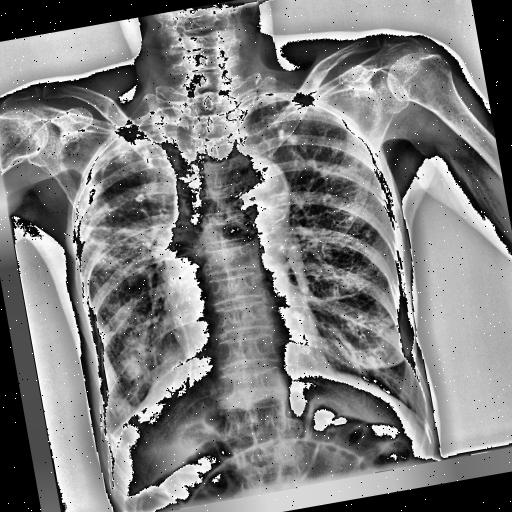0- Aortic enlargement: (204, 146, 300, 246), (210, 140, 294, 231), (208, 146, 294, 229)
1- Atelectasis: (50, 123, 190, 284)
10- Pleural effusion: (96, 422, 121, 446)
11- Pleural thickening: (89, 113, 164, 166), (84, 117, 164, 164), (87, 117, 158, 157), (96, 406, 124, 450), (99, 420, 124, 444), (96, 422, 121, 446)
13- Pulmonary fibrosis: (67, 171, 192, 382), (50, 123, 190, 284), (66, 148, 184, 282), (246, 92, 366, 196), (262, 82, 366, 189), (264, 97, 364, 204), (108, 285, 174, 382)
2- Calcification: (300, 343, 320, 366), (290, 307, 306, 323), (290, 308, 306, 324), (132, 192, 146, 204), (232, 196, 244, 208), (246, 194, 256, 202)
6- Infiltration: (50, 123, 190, 284)
7- Lung Opacity: (87, 117, 158, 157)
9- Other lesion: (153, 90, 240, 246), (150, 98, 230, 240)
